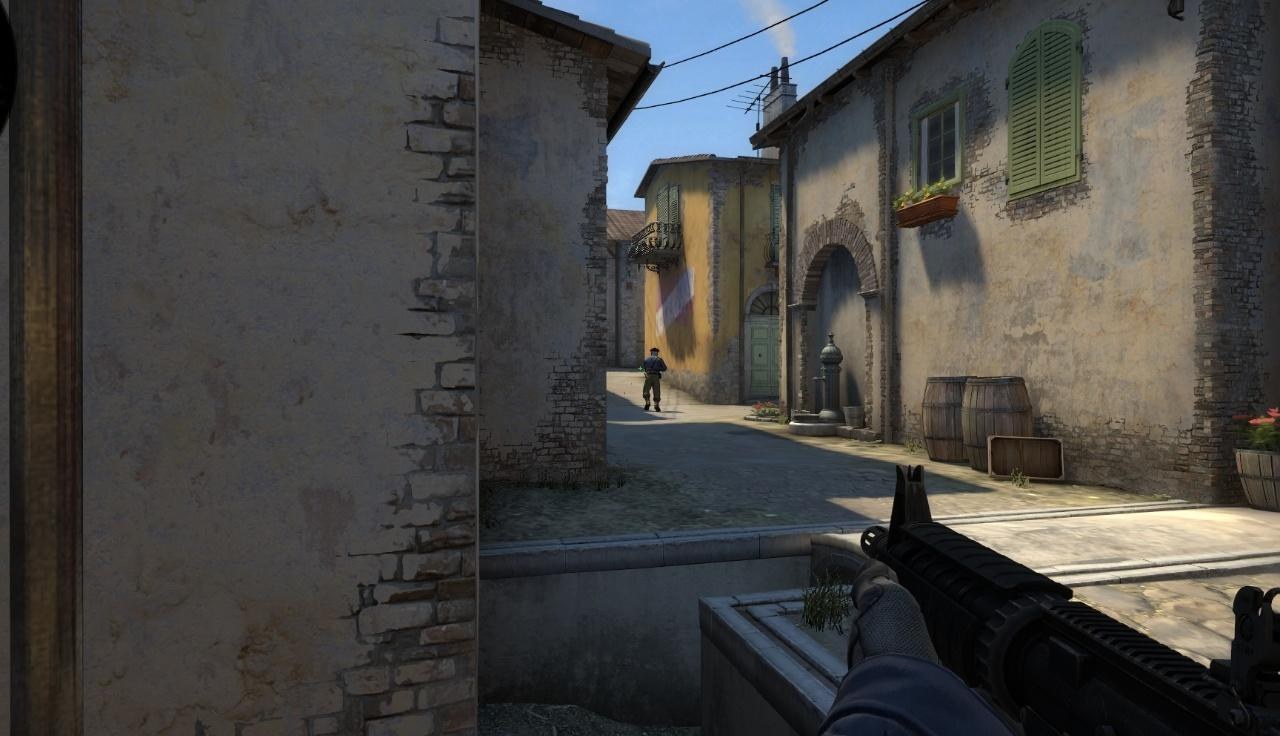rifle: (859, 459, 1280, 736)
tt: (644, 348, 662, 412)
tthead: (650, 348, 659, 356)
